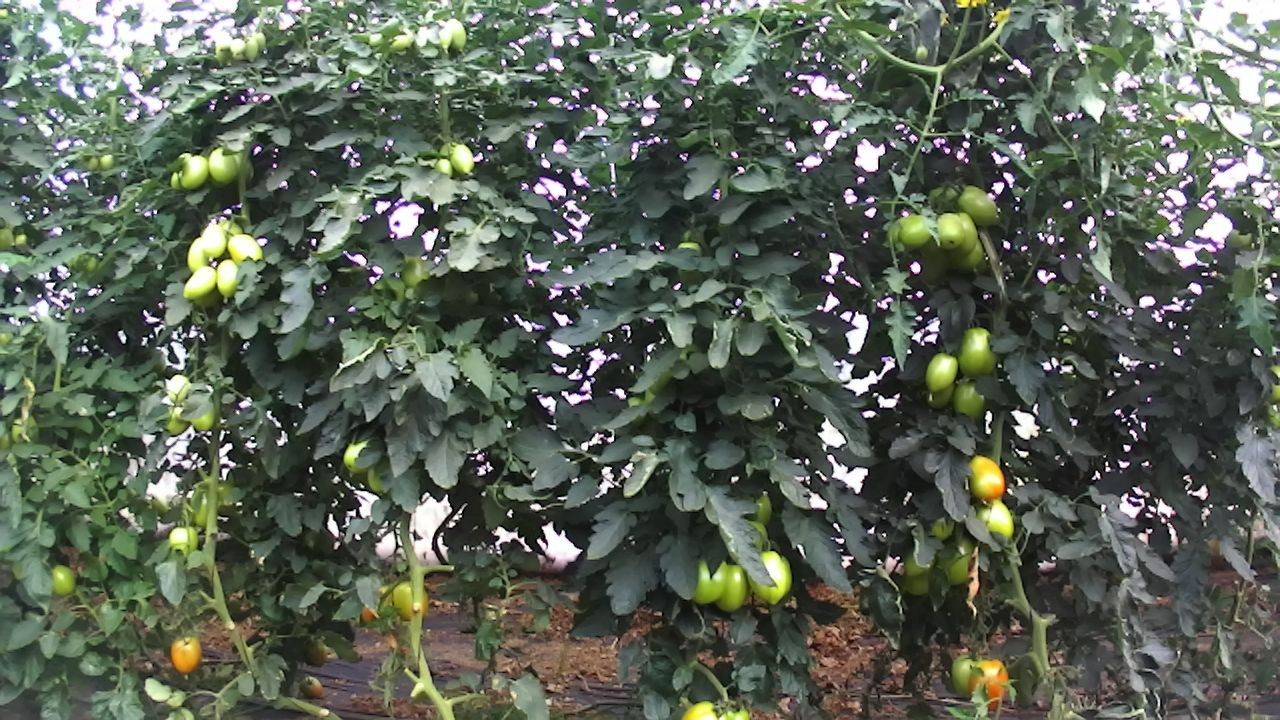tomato: (747, 548, 789, 609), (966, 654, 1010, 711), (954, 325, 998, 378), (954, 181, 1003, 228), (711, 559, 749, 615), (689, 555, 729, 607), (966, 453, 1006, 504), (922, 351, 960, 396), (391, 579, 428, 622), (168, 634, 204, 678), (894, 213, 933, 249), (180, 265, 219, 300), (225, 231, 263, 266), (207, 145, 239, 186), (949, 650, 976, 696), (935, 211, 965, 252), (178, 154, 209, 193), (198, 221, 227, 262), (49, 562, 79, 599), (214, 259, 240, 299), (185, 237, 211, 275), (448, 144, 476, 176), (298, 673, 324, 700)
